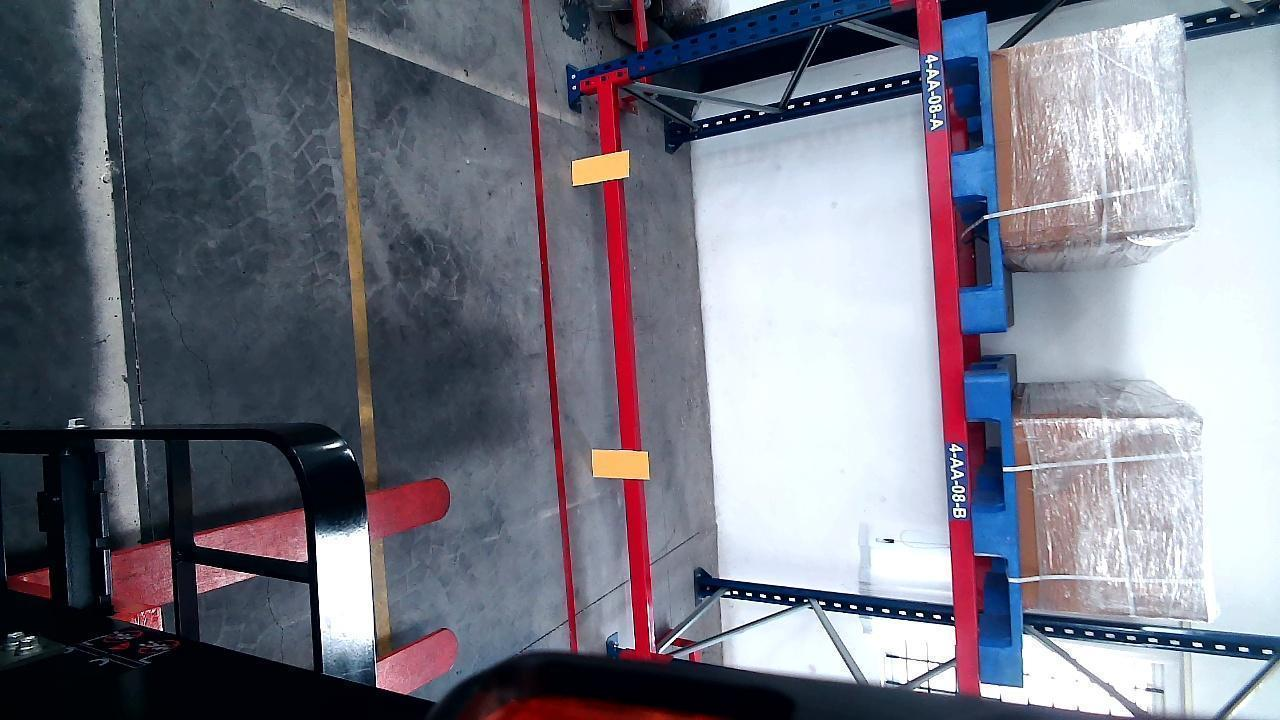red_line: (526, 3, 577, 669)
yellow_line: (334, 0, 378, 457)
